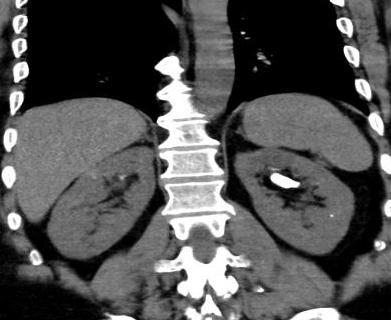Tas_Var: (268, 170, 300, 190), (328, 214, 335, 218)
